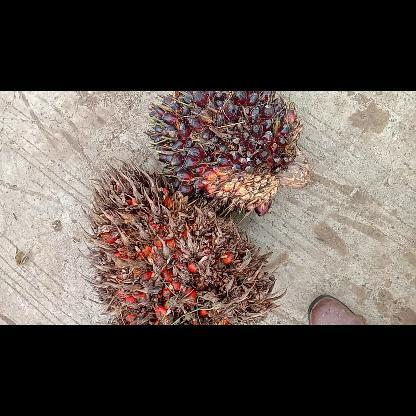TBS mentah: (143, 91, 311, 216)
Terlalu masak: (80, 158, 286, 324)
